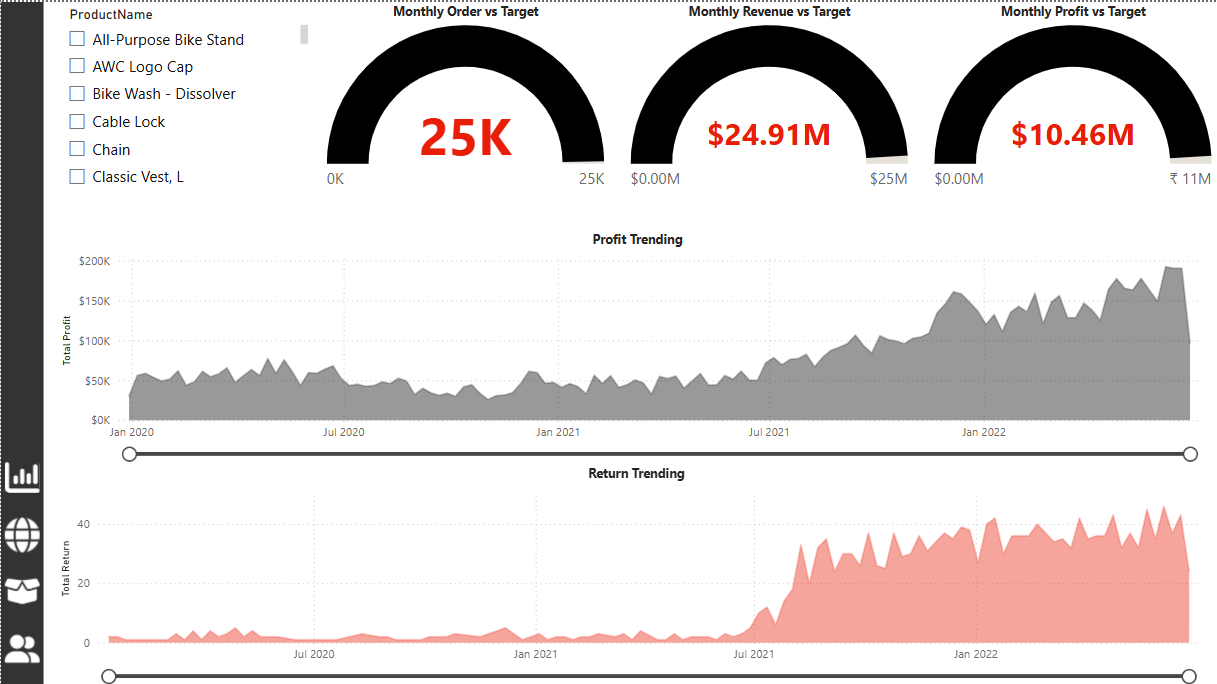

The page's visual inventory and layout, read from the dashboard file:
{"tool":"powerbi","page":{"name":"Product details","canvas":[1280,720],"ordinal":2},"visuals":[{"type":"shape","title":"Left Bar","box":[0,0,45,720],"z":0},{"type":"slicer","fields":{"Values":["Product Lookup.ProductName"]},"box":[58.7,0,269,209.1],"z":1000},{"type":"actionButton","box":[0.4,474.7,44.7,50.5],"z":2000,"group":"g1"},{"type":"gauge","title":"Monthly Order vs Target","fields":{"Y":["Measure Table.Total Order"],"MaxValue":["Measure Table.Order Target"]},"box":[337.5,0,302,209.1],"z":2000},{"type":"gauge","title":"Monthly Revenue vs Target","fields":{"Y":["Measure Table.Total Revenue"],"MaxValue":["Measure Table.Revenue Target"]},"box":[657.9,0,302,209.1],"z":3000},{"type":"actionButton","box":[0.4,594.9,44.7,50.5],"z":3000,"group":"g1"},{"type":"gauge","title":"Monthly Profit vs Target","fields":{"Y":["Measure Table.Total Profit"],"MaxValue":["Measure Table.Profit Target"]},"box":[978,0,302,209.1],"z":4000},{"type":"actionButton","box":[0.4,534.8,44.7,50.5],"z":4000,"group":"g1"},{"type":"actionButton","box":[0.4,655,44.7,50.5],"z":5000,"group":"g1"},{"type":"lineChart","title":"Profit Trending","fields":{"Category":["Calendar Lookup.Start of Week"],"Y":["Measure Table.Total Profit"]},"box":[58.7,240.9,1221.6,245.8],"z":5000},{"type":"areaChart","title":"Return Trending","fields":{"Category":["Calendar Lookup.Start of Week"],"Y":["Measure Table.Total Return"]},"box":[57.7,486.2,1222,233.7],"z":6000},{"type":"group","id":"g1","title":"Navigation Button","box":[0.4,474.7,44.7,230.8],"z":7000}]}

Visuals, with their boxes on the page's 1280x720 design canvas (x1, y1, x2, y2). These are canvas units, not pixel positions in the 1217x684 screenshot, which may show the page scaled, cropped or inside an application window:
"Left Bar" shape: pyautogui.locateOnScreen(0, 0, 45, 720)
slicer - Product Lookup.ProductName: pyautogui.locateOnScreen(59, 0, 328, 209)
actionButton: pyautogui.locateOnScreen(0, 475, 45, 525)
"Monthly Order vs Target" gauge: pyautogui.locateOnScreen(338, 0, 640, 209)
"Monthly Revenue vs Target" gauge: pyautogui.locateOnScreen(658, 0, 960, 209)
actionButton: pyautogui.locateOnScreen(0, 595, 45, 645)
"Monthly Profit vs Target" gauge: pyautogui.locateOnScreen(978, 0, 1280, 209)
actionButton: pyautogui.locateOnScreen(0, 535, 45, 585)
actionButton: pyautogui.locateOnScreen(0, 655, 45, 706)
"Profit Trending" lineChart: pyautogui.locateOnScreen(59, 241, 1280, 487)
"Return Trending" areaChart: pyautogui.locateOnScreen(58, 486, 1280, 720)
"Navigation Button" group: pyautogui.locateOnScreen(0, 475, 45, 706)
